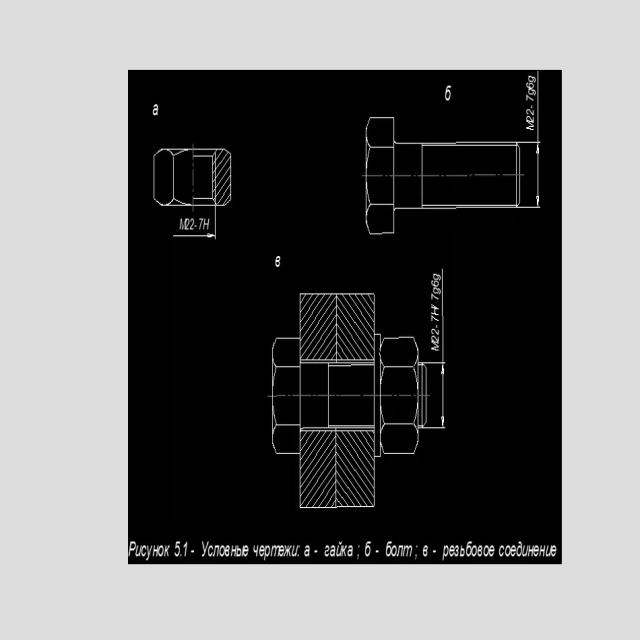marking_line: (439, 362, 447, 428), (172, 232, 214, 242), (536, 143, 541, 206)
numeric: (524, 74, 538, 105), (430, 327, 441, 343), (184, 218, 196, 232), (524, 108, 535, 123), (430, 314, 440, 323), (428, 293, 439, 301), (198, 215, 203, 232)
